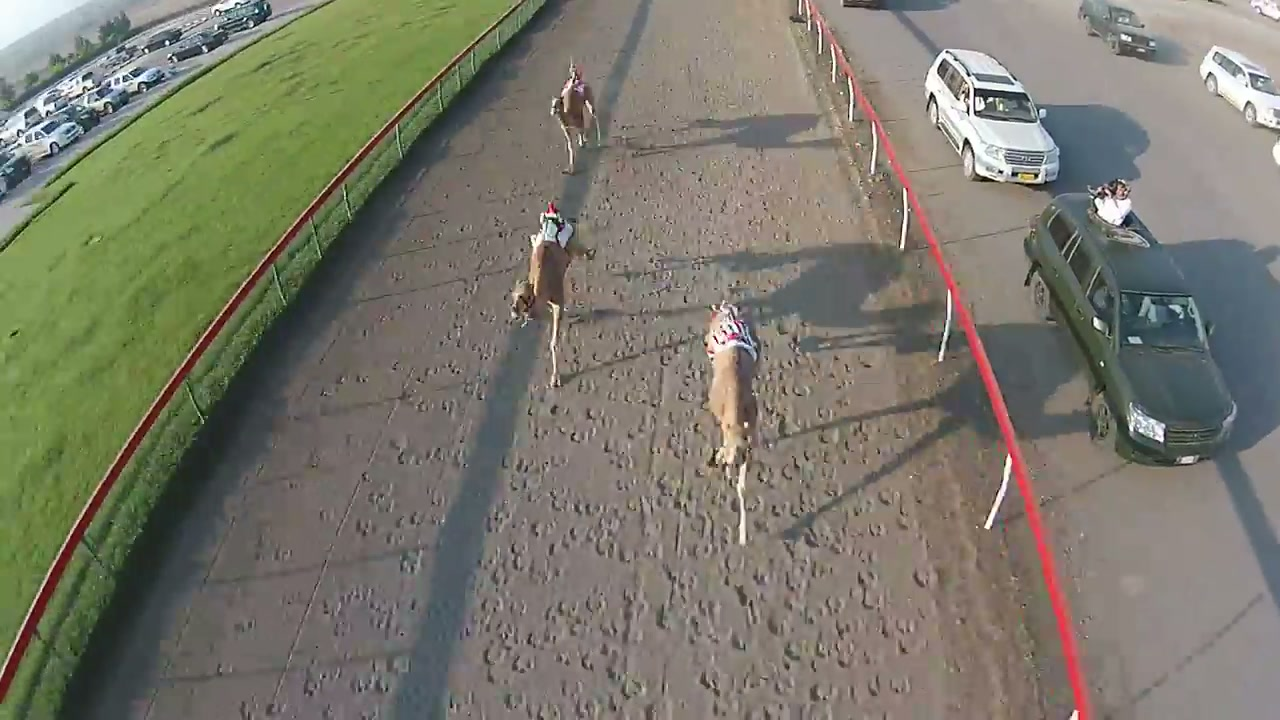animal_footprint: (469, 102, 657, 718), (306, 295, 508, 684), (688, 362, 884, 698)
